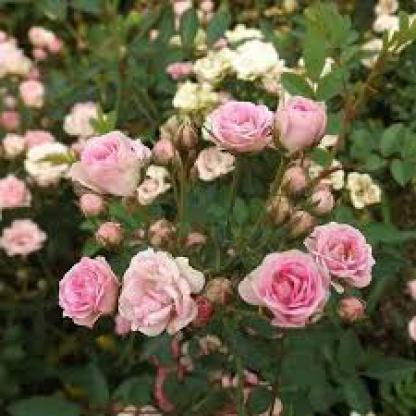Rose-Mawar: (53, 92, 378, 332)
